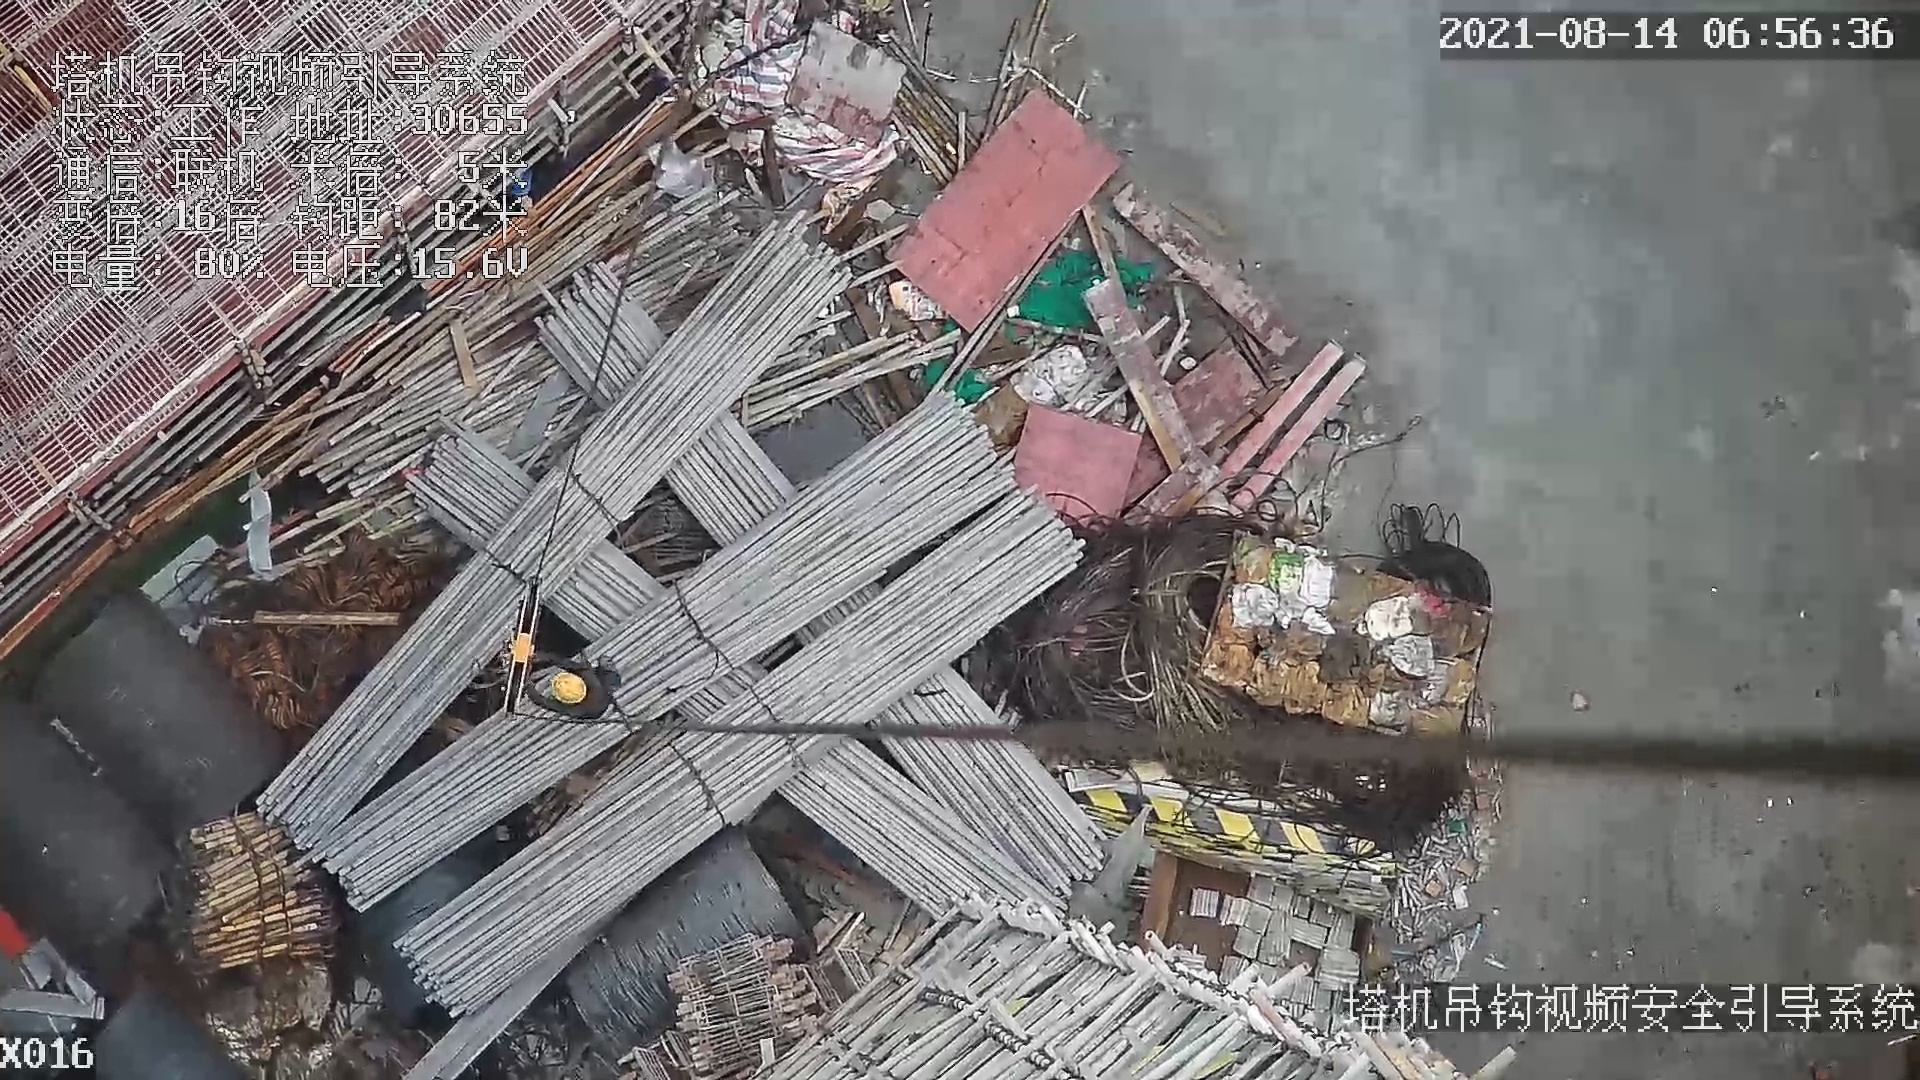helmet: (551, 673, 587, 704)
hook: (499, 563, 542, 715)
person: (531, 649, 626, 723)
rebar: (254, 219, 858, 854), (311, 388, 1017, 914), (394, 492, 1081, 1011), (775, 733, 1066, 938), (869, 666, 1109, 893)
wood: (190, 811, 340, 970)
